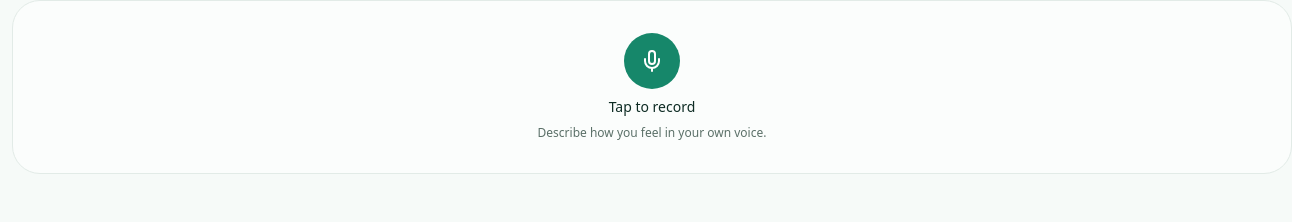
VoiceRecorder › surfaces a friendly error when mic access is blocked
The image size is (1292, 222).
Click the button "Tap to record Describe how you feel in your own voice.".
click(652, 87)  # box x1=538 y1=33 x2=766 y2=141
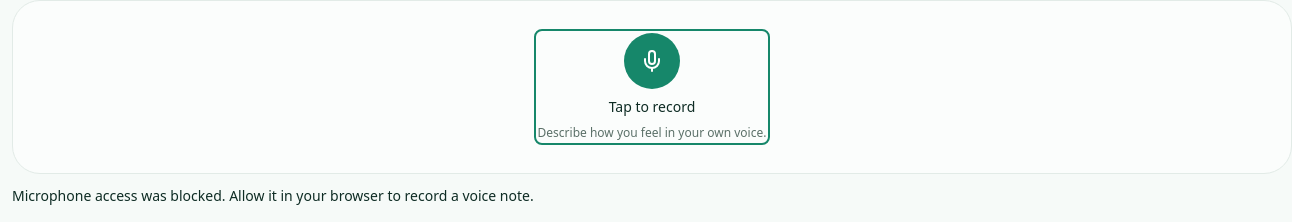
expect the message shows "Microphone access was blocked": met, box x1=12 y1=186 x2=534 y2=205
